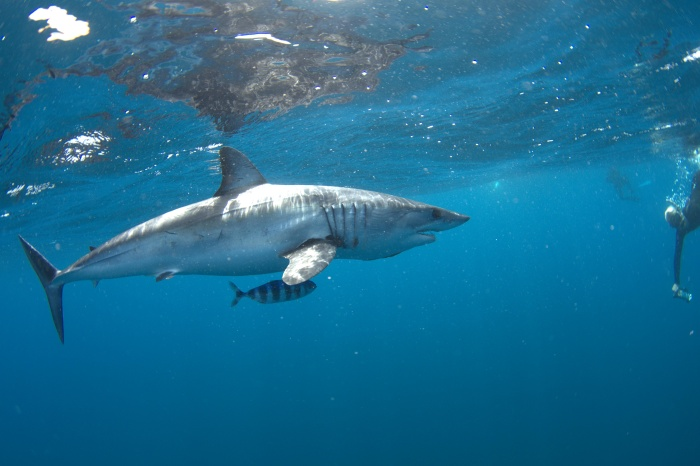Mako: (14, 132, 490, 349)
